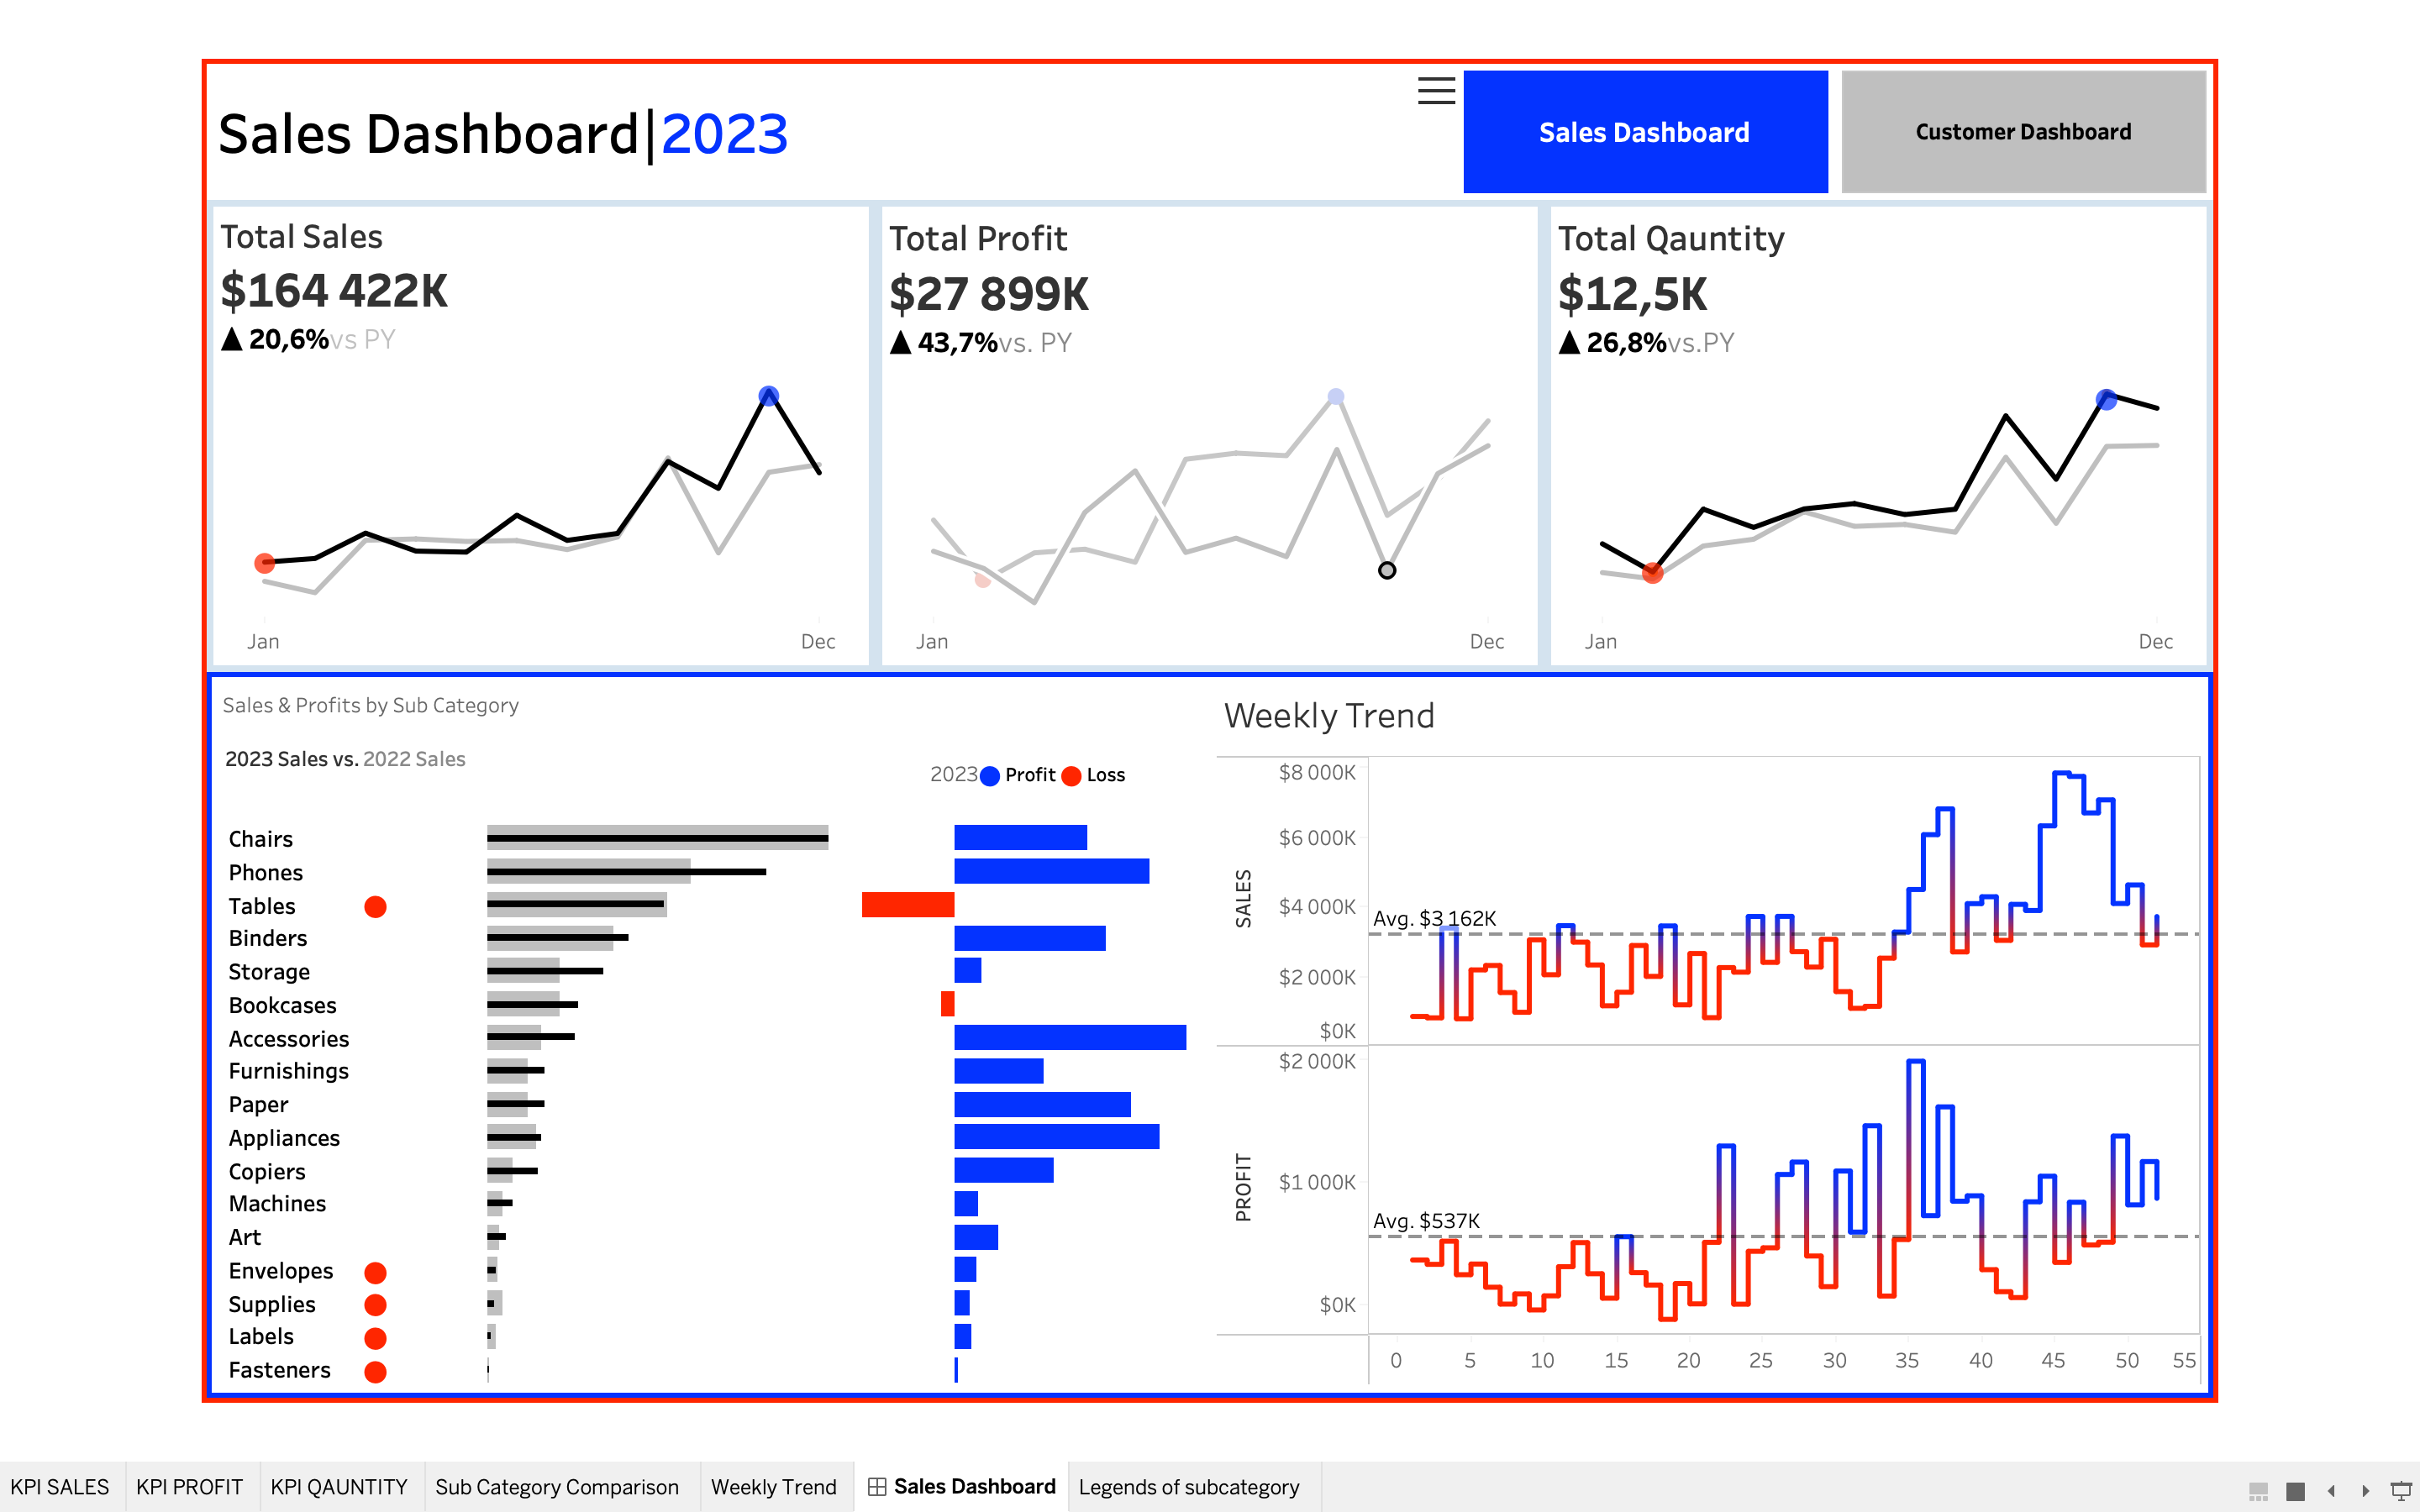

Layout of this report page (visuals, bound fields, positions):
{"tool":"tableau","page":{"name":"Sales Dashboard","canvas":[1200,800],"ordinal":0},"visuals":[{"type":"text","box":[3,3,744,81]},{"type":"dashboard-object","box":[747,3,225,81]},{"type":"dashboard-object","box":[972,3,225,81]},{"type":"dashboard-object","box":[714,7,24,24]},{"type":"dashboard-object","box":[723,7,24,24]},{"type":"parameter","param":"[Parameters].[Parameter 1]","box":[619,32,157,32.9]},{"type":"legend","title":"KPI SALES","param":"[federated.0u4nbha1dtou3e1d7mcfo03ig670].[:Measure Names]","box":[619,64.9,157,32.9]},{"type":"worksheet","title":"KPI SALES","mark":"Automatic","rows":["Calculation_289637801293279239"],"cols":["Order Date"],"box":[3,84,398,281]},{"type":"worksheet","title":"KPI PROFIT","mark":"Automatic","rows":["Calculation_289637802080919583"],"cols":["Order Date"],"box":[401,84,398,281]},{"type":"worksheet","title":"KPI QAUNTITY","mark":"Automatic","rows":["Calculation_289637802426282025"],"cols":["Order Date"],"box":[799,84,398,281]},{"type":"legend","title":"KPI SALES","param":"[federated.0u4nbha1dtou3e1d7mcfo03ig670].[usr:Calculation_289637801293279239:qk]","box":[619,97.7,157,32.9]},{"type":"legend","title":"KPI PROFIT","param":"[federated.0u4nbha1dtou3e1d7mcfo03ig670].[usr:Calculation_289637802080919583:qk]","box":[619,130.6,157,32.9]},{"type":"legend","title":"KPI QAUNTITY","param":"[federated.0u4nbha1dtou3e1d7mcfo03ig670].[usr:Calculation_289637802426282025:qk]","box":[619,163.5,157,32.9]},{"type":"legend","title":"Sub Category Comparison","param":"[federated.0u4nbha1dtou3e1d7mcfo03ig670].[sum:Calculation_289637802076708892:qk]","box":[619,196.4,157,32.9]},{"type":"legend","title":"Weekly Trend","param":"[federated.0u4nbha1dtou3e1d7mcfo03ig670].[usr:Calculation_289637804552179758:nk]","box":[619,229.2,157,32.9]},{"type":"legend","title":"Weekly Trend","param":"[federated.0u4nbha1dtou3e1d7mcfo03ig670].[usr:KPI SALES Avg (copy)_2896378045527","box":[619,262.1,157,32.9]},{"type":"text","box":[6,368,594,32]},{"type":"worksheet","title":"Weekly Trend","mark":"Automatic","rows":["Calculation_289637801276235776","Calculation_289637802076708892"],"cols":["Order Date"],"box":[600,368,594,426]},{"type":"worksheet","title":"Legends of subcategory","mark":"Automatic","box":[6,400,421,50]},{"type":"text","box":[427,400,173,50]},{"type":"worksheet","title":"Sub Category Comparison","mark":"Bar","rows":["Sub-Category","Calculation_289637802449707053"],"cols":["CY SALES (copy)_289637801276788737","Calculation_289637801276235776","Calculation_289637802076708892"],"box":[6,450,594,343.9]}]}

Visuals, with their boxes on the page's 1200x800 design canvas (x1, y1, x2, y2). These are canvas units, not pixel positions in the 2420x1512 screenshot, which may show the page scaled, cropped or inside an application window:
text: bbox=(3, 3, 747, 84)
dashboard-object: bbox=(747, 3, 972, 84)
dashboard-object: bbox=(972, 3, 1197, 84)
dashboard-object: bbox=(714, 7, 738, 31)
dashboard-object: bbox=(723, 7, 747, 31)
parameter: bbox=(619, 32, 776, 65)
"KPI SALES" legend: bbox=(619, 65, 776, 98)
"KPI SALES" worksheet: bbox=(3, 84, 401, 365)
"KPI PROFIT" worksheet: bbox=(401, 84, 799, 365)
"KPI QAUNTITY" worksheet: bbox=(799, 84, 1197, 365)
"KPI SALES" legend: bbox=(619, 98, 776, 131)
"KPI PROFIT" legend: bbox=(619, 131, 776, 164)
"KPI QAUNTITY" legend: bbox=(619, 164, 776, 196)
"Sub Category Comparison" legend: bbox=(619, 196, 776, 229)
"Weekly Trend" legend: bbox=(619, 229, 776, 262)
"Weekly Trend" legend: bbox=(619, 262, 776, 295)
text: bbox=(6, 368, 600, 400)
"Weekly Trend" worksheet: bbox=(600, 368, 1194, 794)
"Legends of subcategory" worksheet: bbox=(6, 400, 427, 450)
text: bbox=(427, 400, 600, 450)
"Sub Category Comparison" worksheet (Bar marks): bbox=(6, 450, 600, 794)
